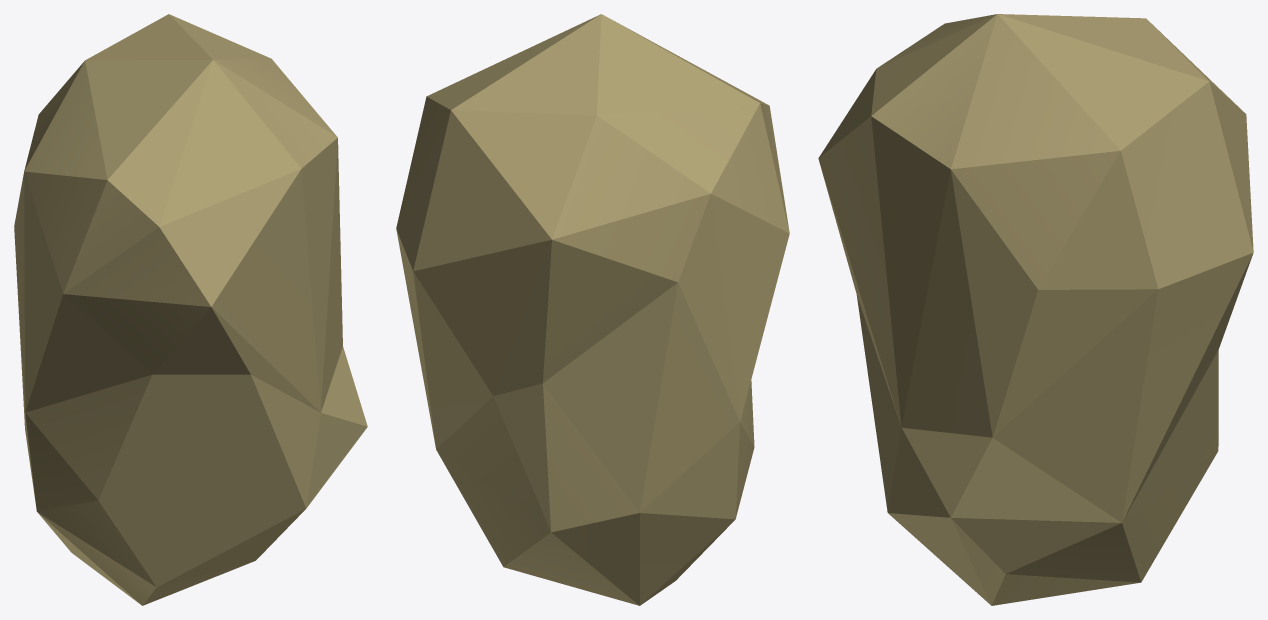
Rendered from SM_small_rock_08.fbx.
3 views of the same model, side by side, from view 1: azimuth 30°, elevation 25°; view 2: azimuth 150°, elevation 25°; view 3: azimuth 270°, elevation 25° (orthographic). The views are drawn at different scales.
Parts seen in each view (by area): view 1: small_rock_08; view 2: small_rock_08; view 3: small_rock_08.
Part boxes in pixels (bbox=[...]): small_rock_08: bbox=[14, 14, 367, 605]; small_rock_08: bbox=[396, 14, 789, 605]; small_rock_08: bbox=[818, 14, 1253, 605].
Size of the model in its own units: 73.36 by 123 by 81.96.
